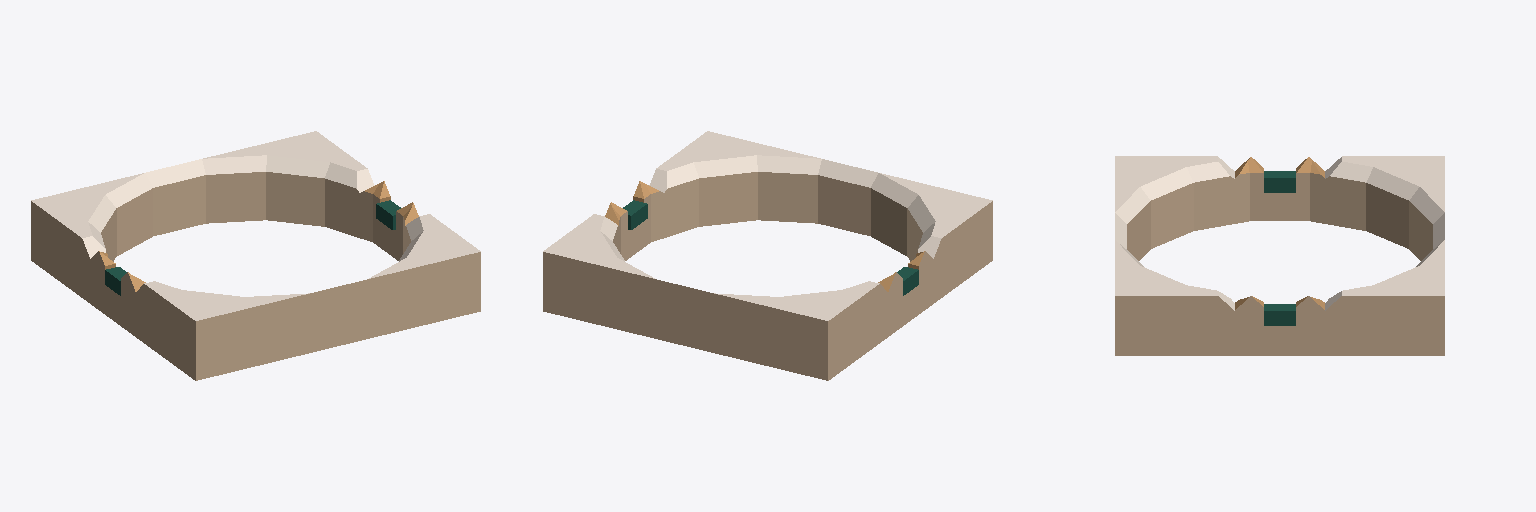
File: Puzzle_Floor_Conduit_Rotating_Housing_Straight.obj
3 renders of one model, left to right at view 1: azimuth 30°, elevation 25°; view 2: azimuth 150°, elevation 25°; view 3: azimuth 270°, elevation 25°, orthographic.
Parts seen in each view (by area): view 1: object3; view 2: object3; view 3: object3, object1, object2.
Part boxes in pixels (x1,y1,x2,y2): object3: (31, 131, 480, 380); object3: (543, 131, 992, 380); object3: (1115, 156, 1444, 355); object1: (1264, 304, 1295, 325); object2: (1264, 171, 1295, 192).
Size of the model in its own units: 1 by 0.2 by 1.